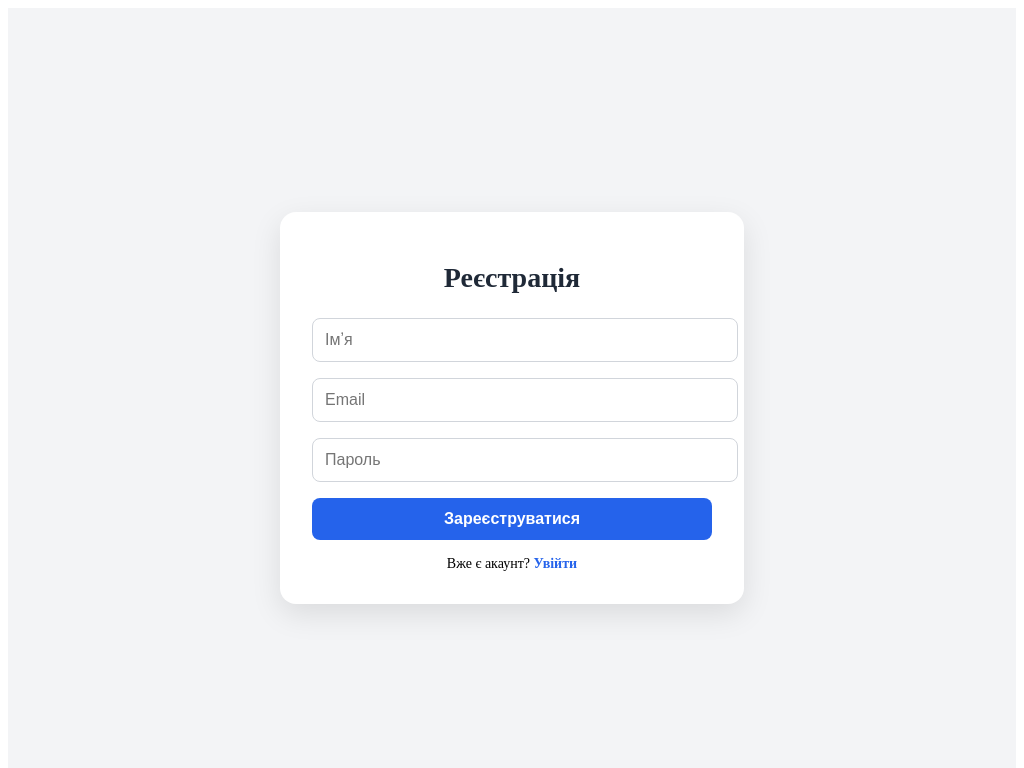
Test: RegisterPage › displays an error message if required fields are empty on submit
What coordinates should you click on to do the following:
click the button "Зареєструватися"
I would click on:
 (512, 519)
Its box is x1=312 y1=498 x2=712 y2=540.
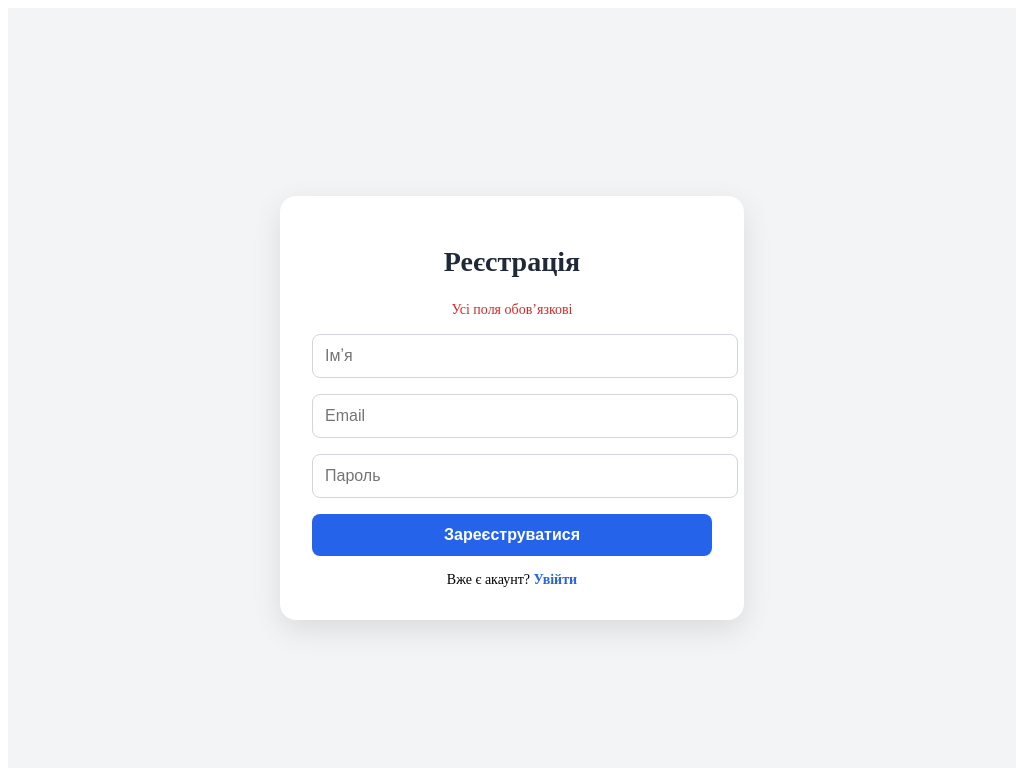
Check: the text "Усі поля обовʼязкові" is shown, box x1=452 y1=302 x2=572 y2=317
